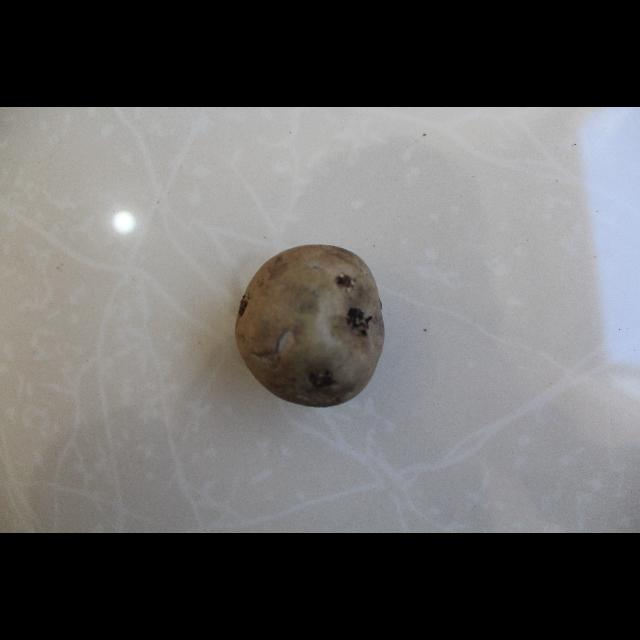Diseased-fungal potato: (252, 230, 406, 400)
